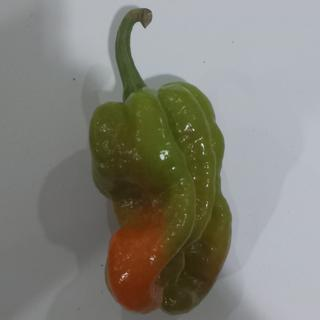Grade-A: (83, 75, 236, 316)
